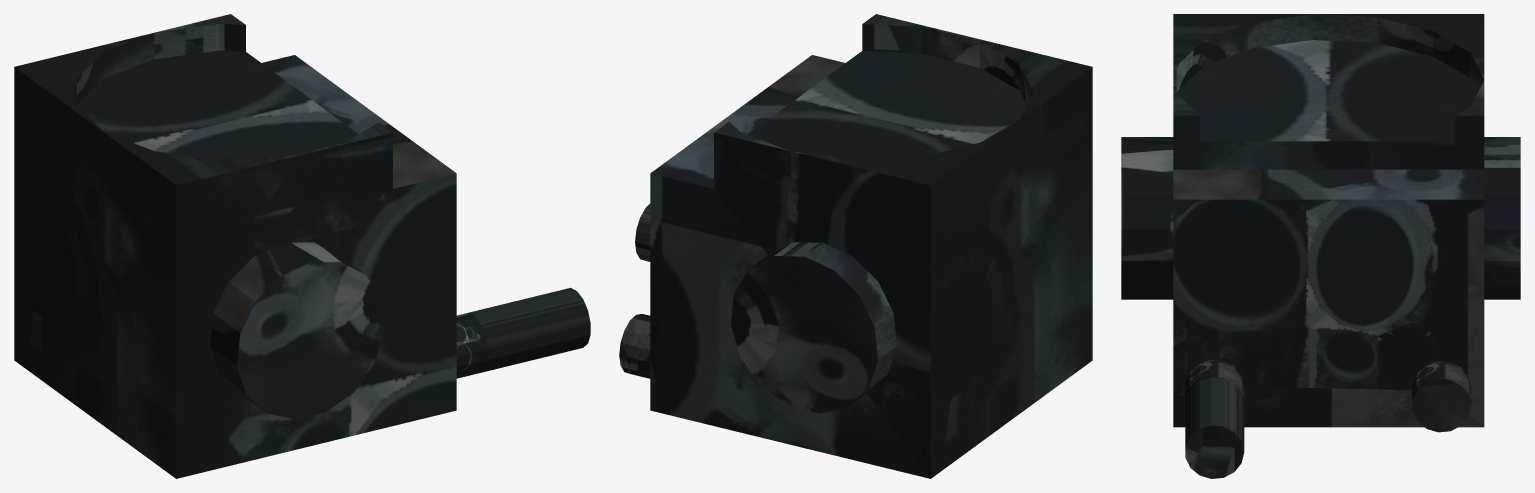
Rendered from engine.fbx.
3 views of the same model, side by side, from view 1: azimuth 30°, elevation 25°; view 2: azimuth 150°, elevation 25°; view 3: azimuth 270°, elevation 25° (orthographic). The views are drawn at different scales.
Parts seen in each view (by area): view 1: Cube; view 2: Cube; view 3: Cube.
Boxes of the visible parts, x1,y1,x2,y2 form: Cube: (14,14,590,478); Cube: (619,14,1092,478); Cube: (1121,14,1520,478).
Bounding box in the file's own units: 300 × 200 × 257.
Materials: 1 (1 with a texture image).
